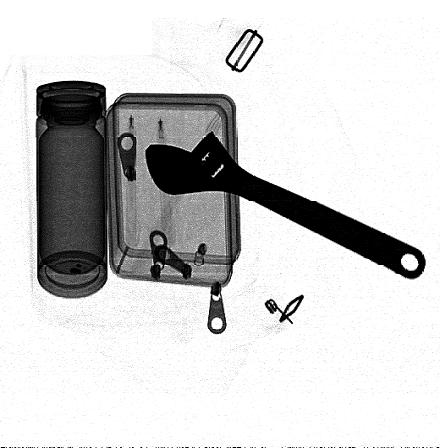Wrench: (142, 128, 428, 281)
